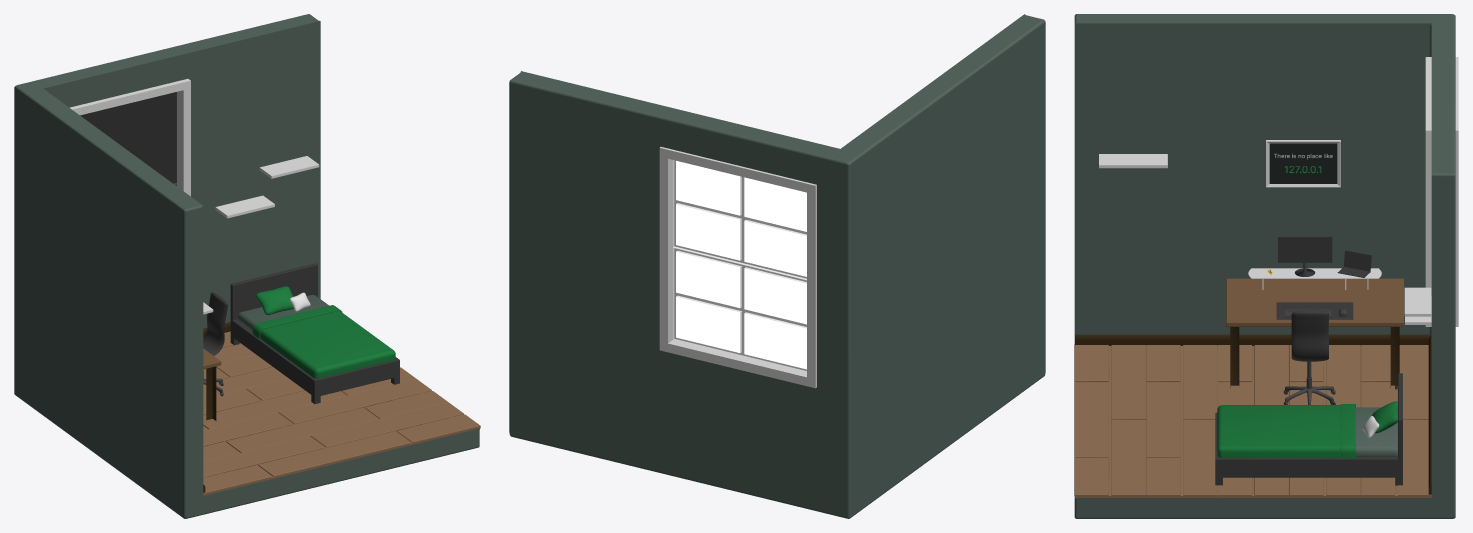
3 renders of one model, left to right at view 1: azimuth 30°, elevation 25°; view 2: azimuth 150°, elevation 25°; view 3: azimuth 270°, elevation 25°, orthographic. The views are drawn at different scales.
Visible parts, largest first — view 1: Walls, Floor, Sheets, Bed Frame, Shade, Window Frame, Seat, Mattress, Pillow Big, Shelf.001, Shelf, Desk Leg; view 2: Walls, lower Window, Upper Window, Window Frame; view 3: Walls, Floor, Sheets, Tabletop, Bed Frame, Baseboard, Picture, Window Frame, Seat, Monitor, Mattress, Desk Leg (+7 smaller).
Part boxes in pixels (<box>): Walls: <box>14,14,479,518</box>; Floor: <box>203,331,480,495</box>; Sheets: <box>252,305,395,378</box>; Bed Frame: <box>230,263,399,404</box>; Shade: <box>80,92,176,183</box>; Window Frame: <box>70,79,190,196</box>; Seat: <box>203,292,227,355</box>; Mattress: <box>237,295,328,330</box>; Pillow Big: <box>256,286,293,314</box>; Shelf.001: <box>259,156,319,178</box>; Shelf: <box>215,195,274,218</box>; Desk Leg: <box>206,366,216,420</box>; Walls: <box>509,14,1045,518</box>; lower Window: <box>673,247,806,370</box>; Upper Window: <box>673,160,806,280</box>; Window Frame: <box>659,147,816,388</box>; Walls: <box>1074,14,1455,518</box>; Floor: <box>1074,344,1432,497</box>; Sheets: <box>1217,404,1356,458</box>; Tabletop: <box>1226,278,1403,326</box>; Bed Frame: <box>1215,373,1402,485</box>; Baseboard: <box>1075,334,1431,494</box>; Picture: <box>1266,140,1340,187</box>; Window Frame: <box>1425,57,1458,326</box>; Seat: <box>1291,310,1328,361</box>; Monitor: <box>1278,236,1332,262</box>; Mattress: <box>1355,407,1397,456</box>; Desk Leg: <box>1230,327,1399,389</box>.
Bounding box in the file's own units: 4.27 × 4.27 × 4.3.
14 materials, 1 textured.
